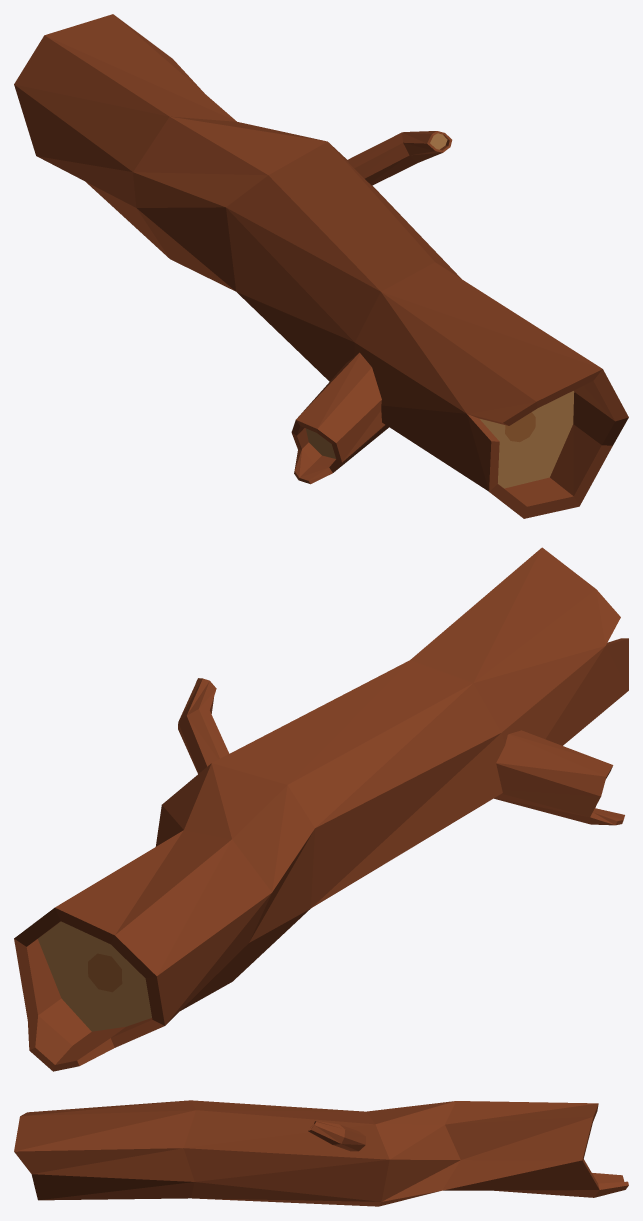
File: bigLog.glb
The picture shows the model from 3 angles, top to bottom: view 1: azimuth 30°, elevation 25°; view 2: azimuth 150°, elevation 25°; view 3: azimuth 270°, elevation 25°; orthographic projection. The views are drawn at different scales.
Visible parts, largest first — view 1: Log.5; view 2: Log.5; view 3: Log.5.
Part boxes in pixels (x1=…): Log.5: x1=14, y1=14, x2=628, y2=518; Log.5: x1=14, y1=547, x2=628, y2=1071; Log.5: x1=14, y1=1100, x2=628, y2=1206.
Size of the model in its own units: 1.29 by 0.7788 by 4.04.
